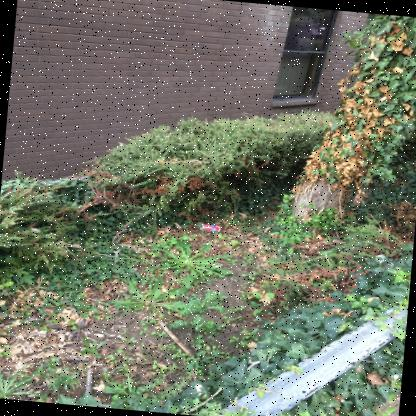Drink can: (200, 224, 221, 233)
